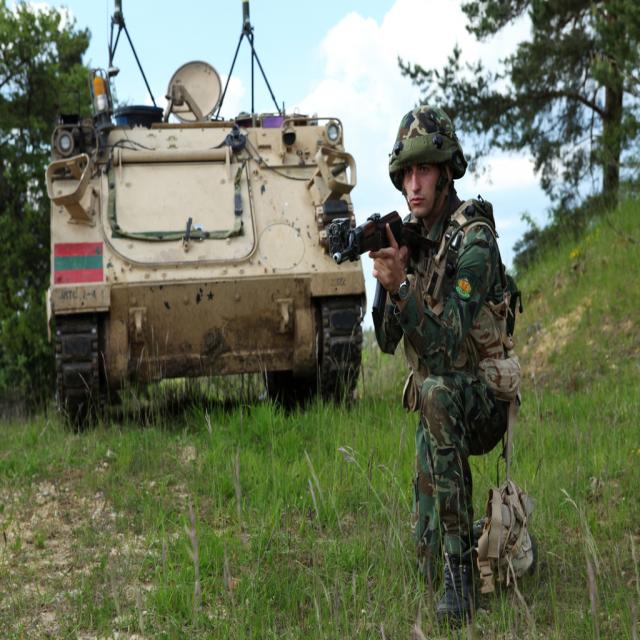tank: (43, 0, 367, 427)
